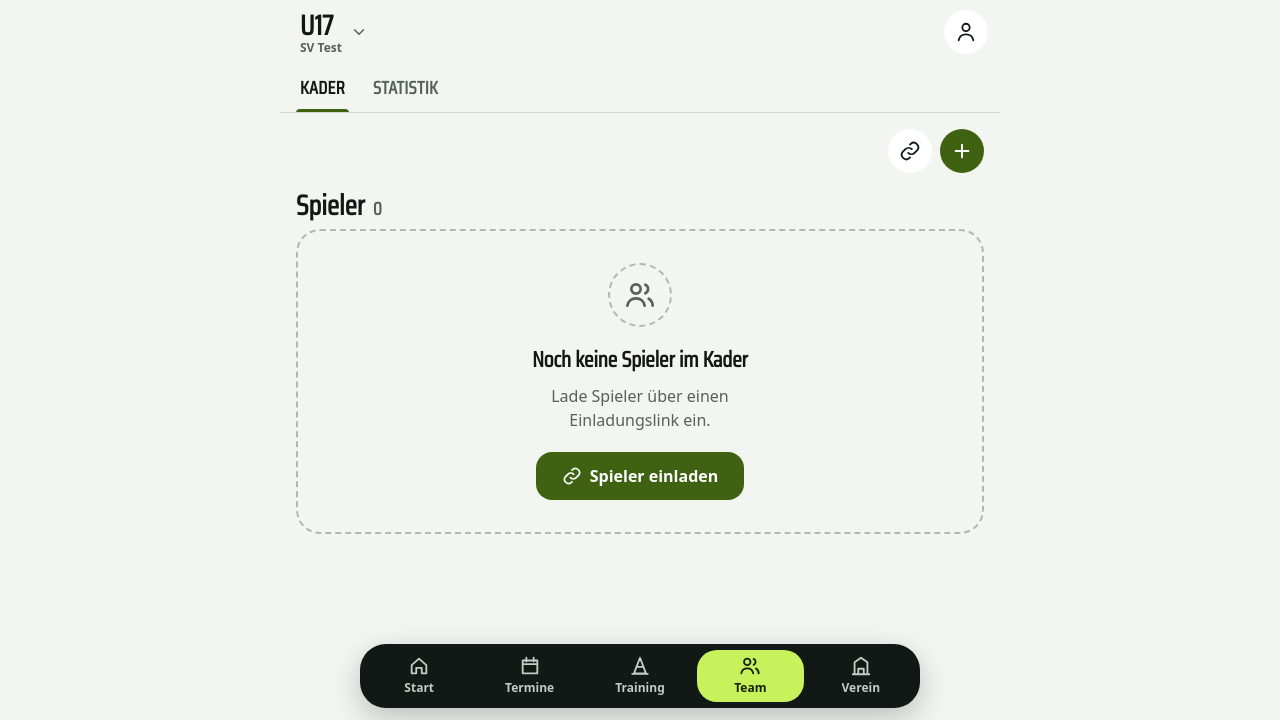
App layout › switches teams and reaches club administration through the header sheet
Expected: the text with class "top-bar__name" reads "U17", x1=300 y1=3 x2=333 y2=47
Click the button with class "top-bar__team": (321, 47) x1=292 y1=10 x2=936 y2=54
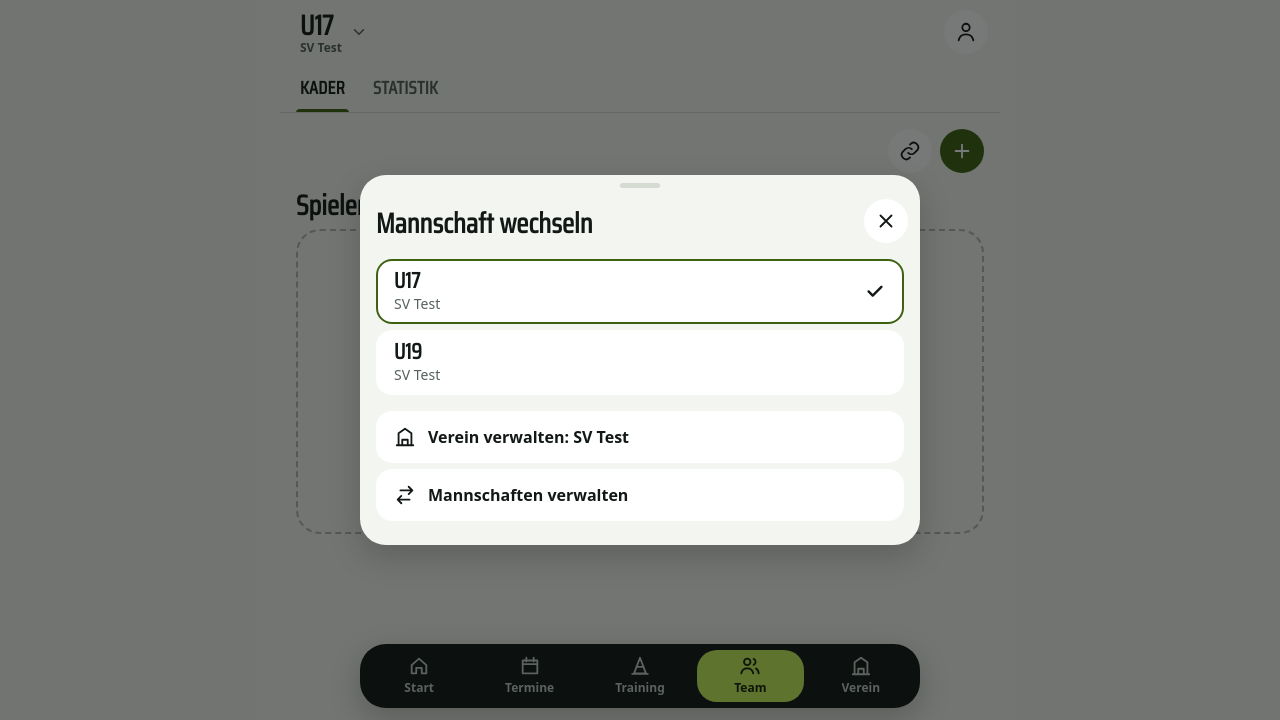
Now the dialog shows "Verein verwalten: SV Test", box x1=376 y1=411 x2=904 y2=463
Click the button "U19 SV Test": (417, 375) x1=376 y1=330 x2=904 y2=395
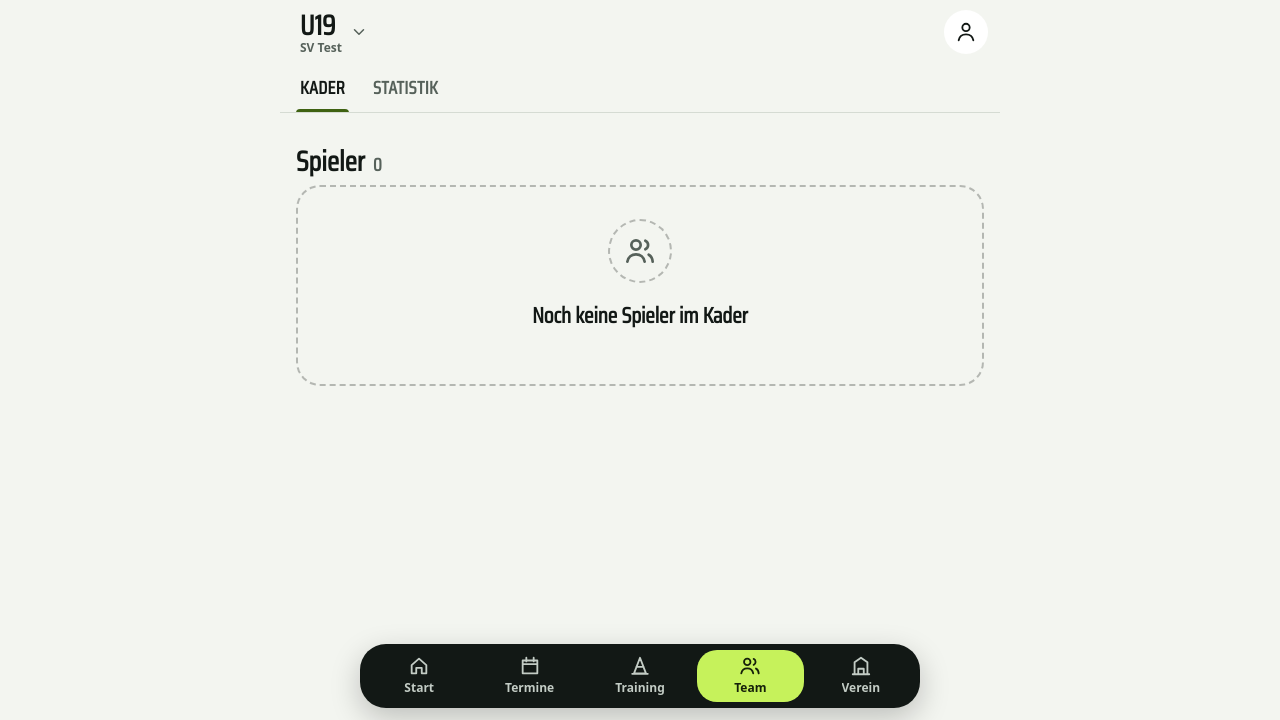
Now the text with class "top-bar__name" reads "U19", box x1=300 y1=3 x2=335 y2=47
